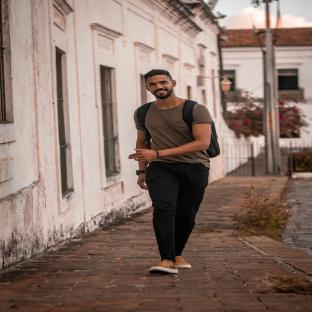Human: (129, 69, 212, 273)
